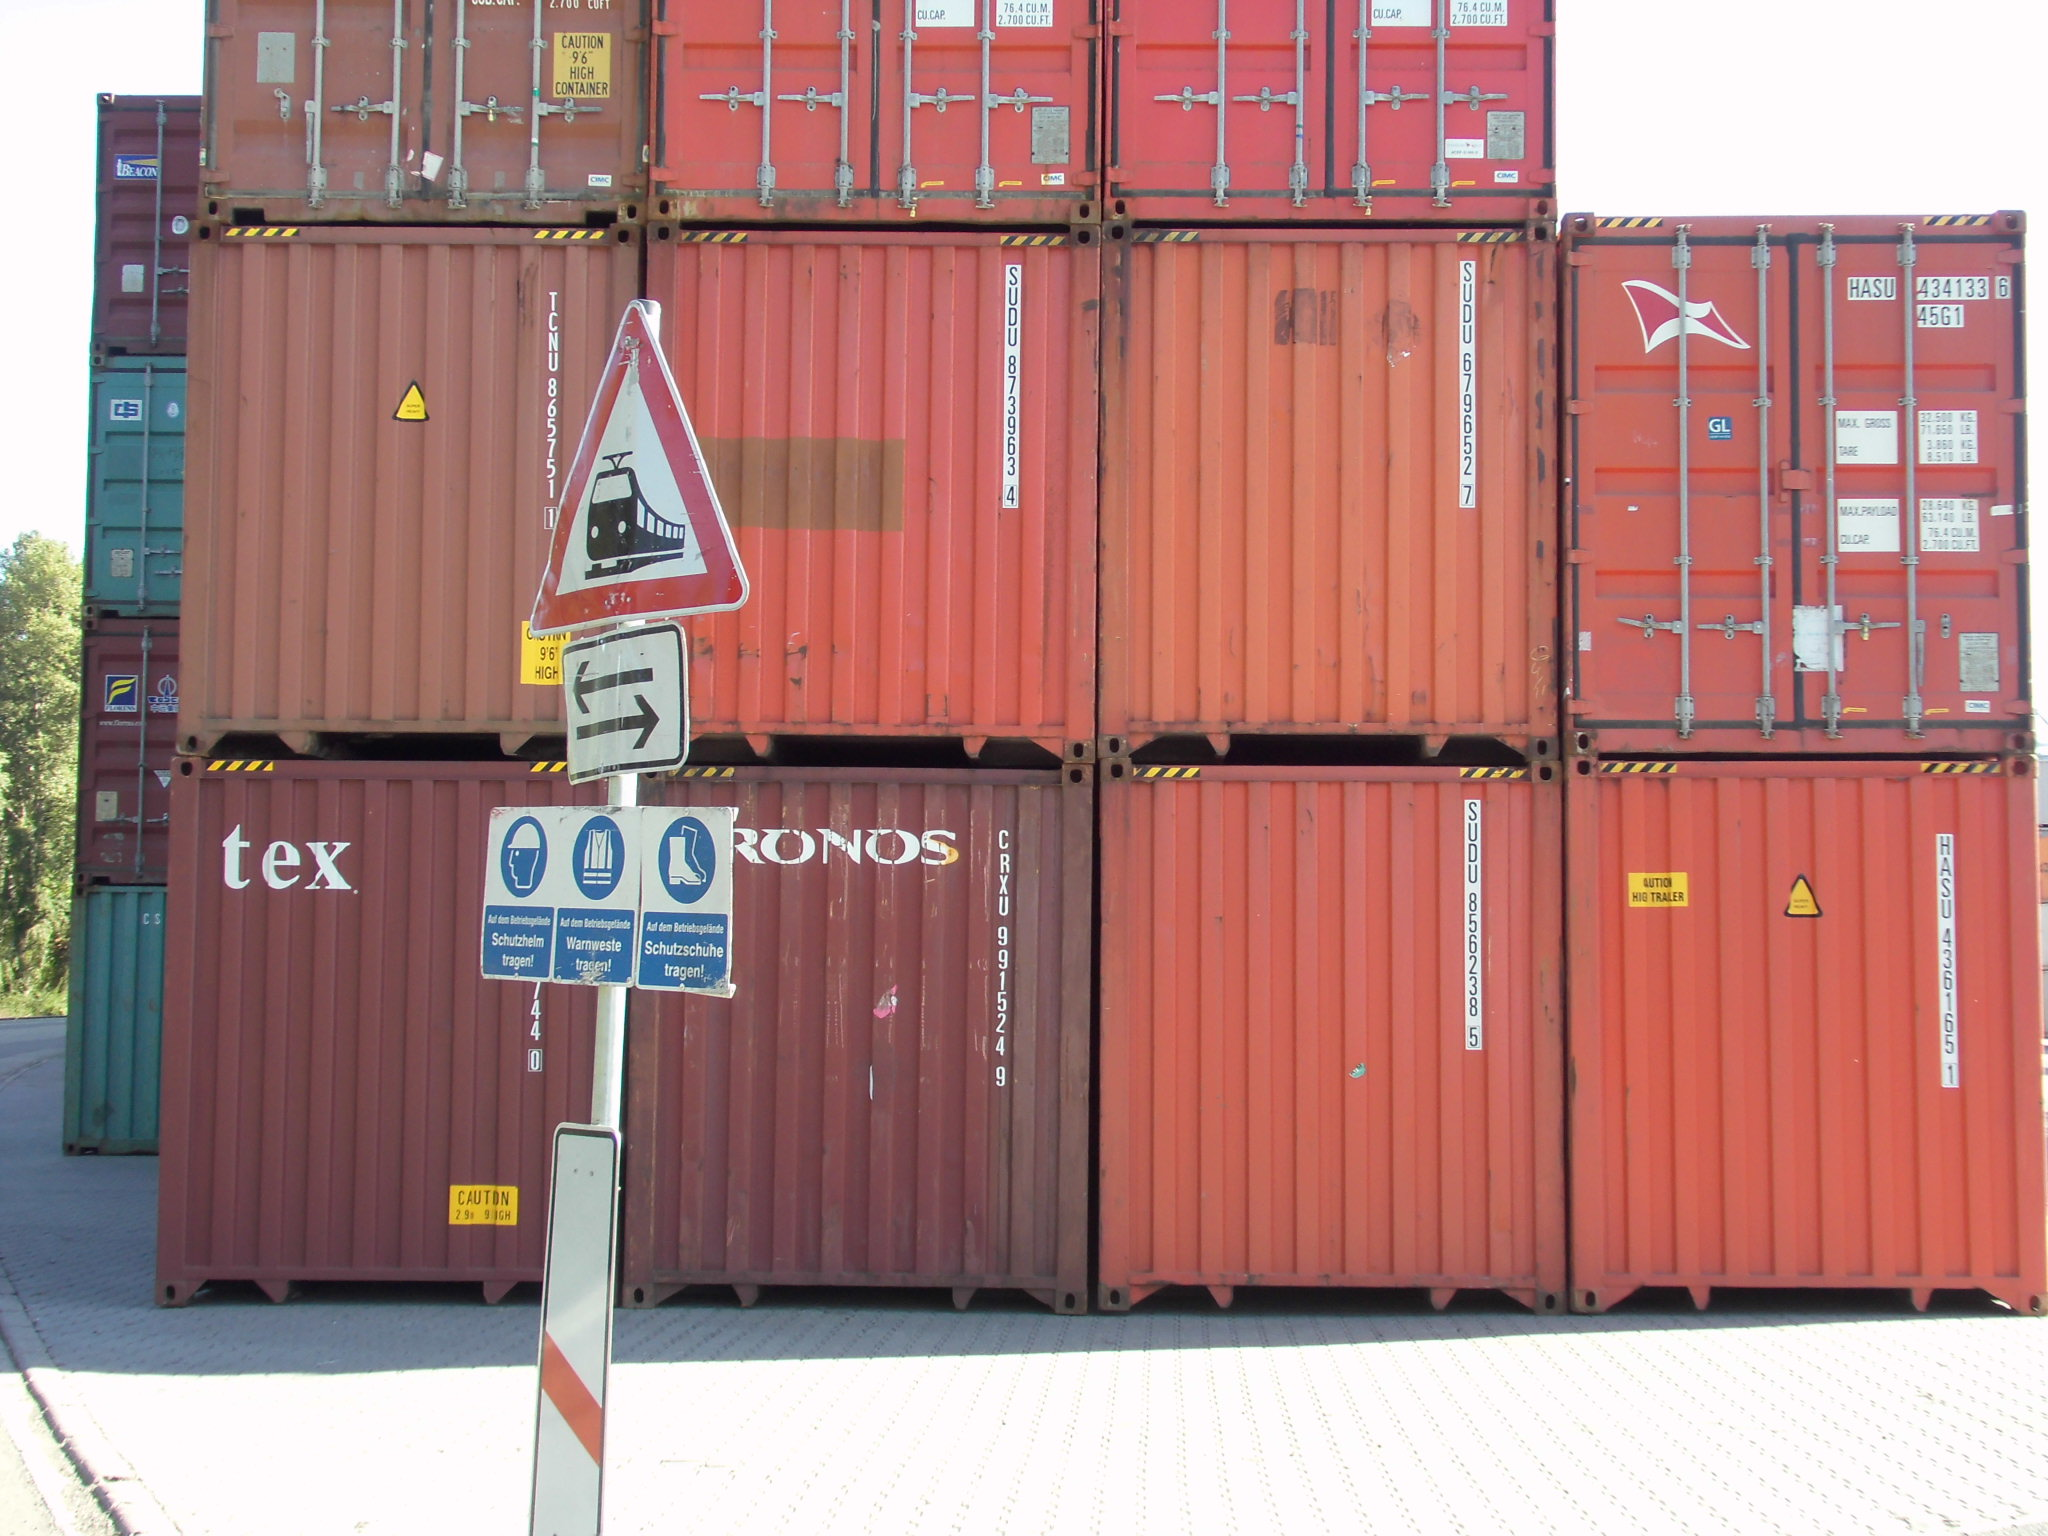container_door: (1572, 205, 2027, 749)
container_no_door: (1576, 766, 2048, 1297), (1130, 234, 1550, 765), (1118, 773, 1535, 1304), (668, 771, 1085, 1300), (672, 239, 1098, 749), (190, 239, 598, 745), (181, 770, 542, 1297)
